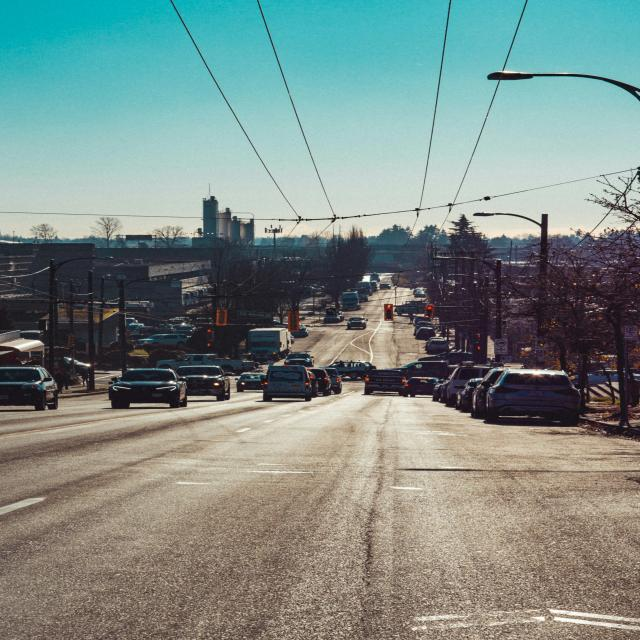Car: (108, 368, 187, 408), (0, 365, 59, 411), (177, 365, 230, 401), (402, 377, 441, 397), (236, 373, 266, 392), (346, 316, 367, 329)
Traffic-light: (384, 304, 393, 320), (424, 304, 434, 318)
Truck: (245, 327, 294, 361)
